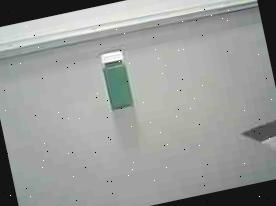Bottle C: (90, 42, 146, 121)
